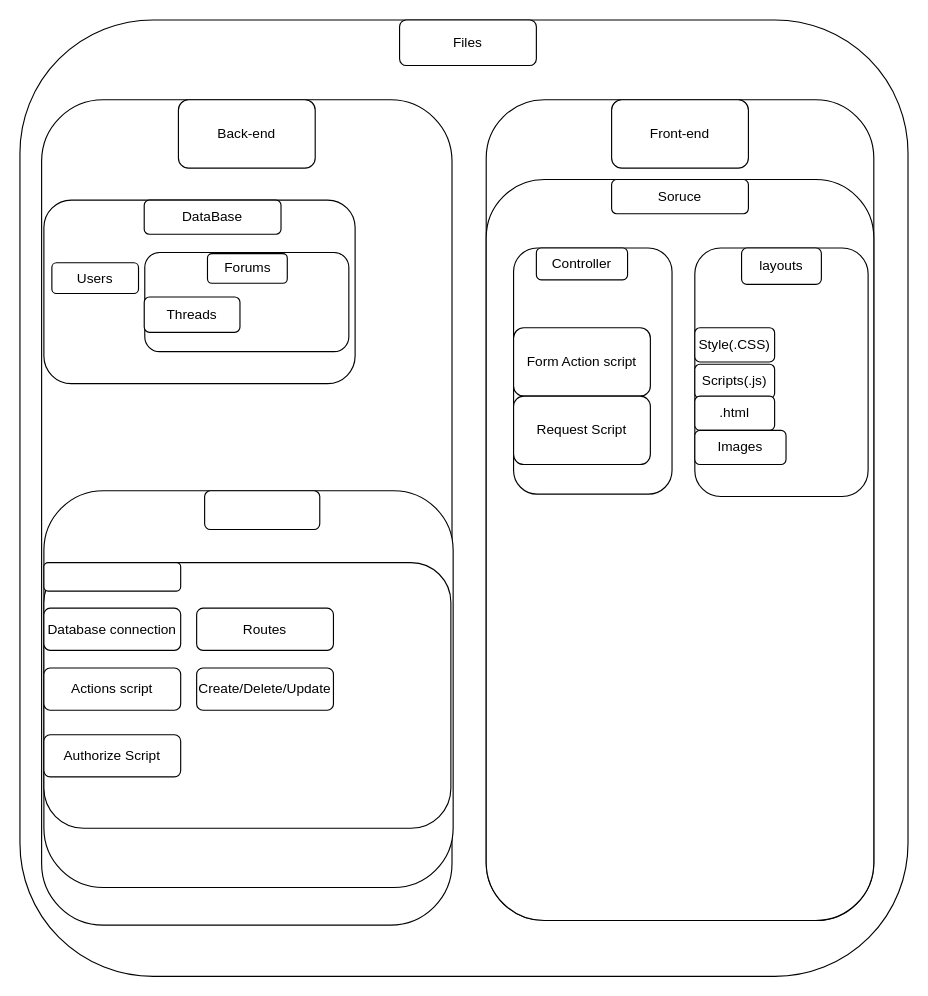
This 928x996 diagram has some shape labels left out. Each missing label, with the centre of its shape:
"Scripts" goes at pixel 112 576.
"Server" goes at pixel 261 510.
